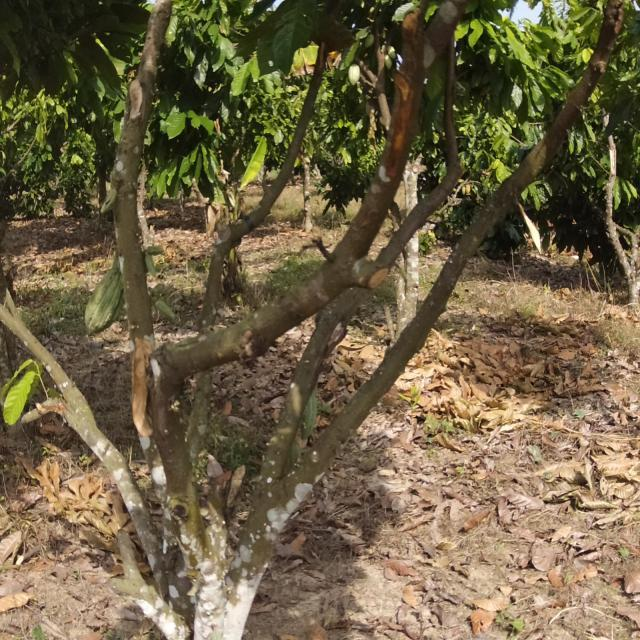Immature: (96, 181, 126, 219), (141, 241, 165, 280), (152, 295, 178, 324)
Mature_Unripe: (84, 266, 130, 336)
